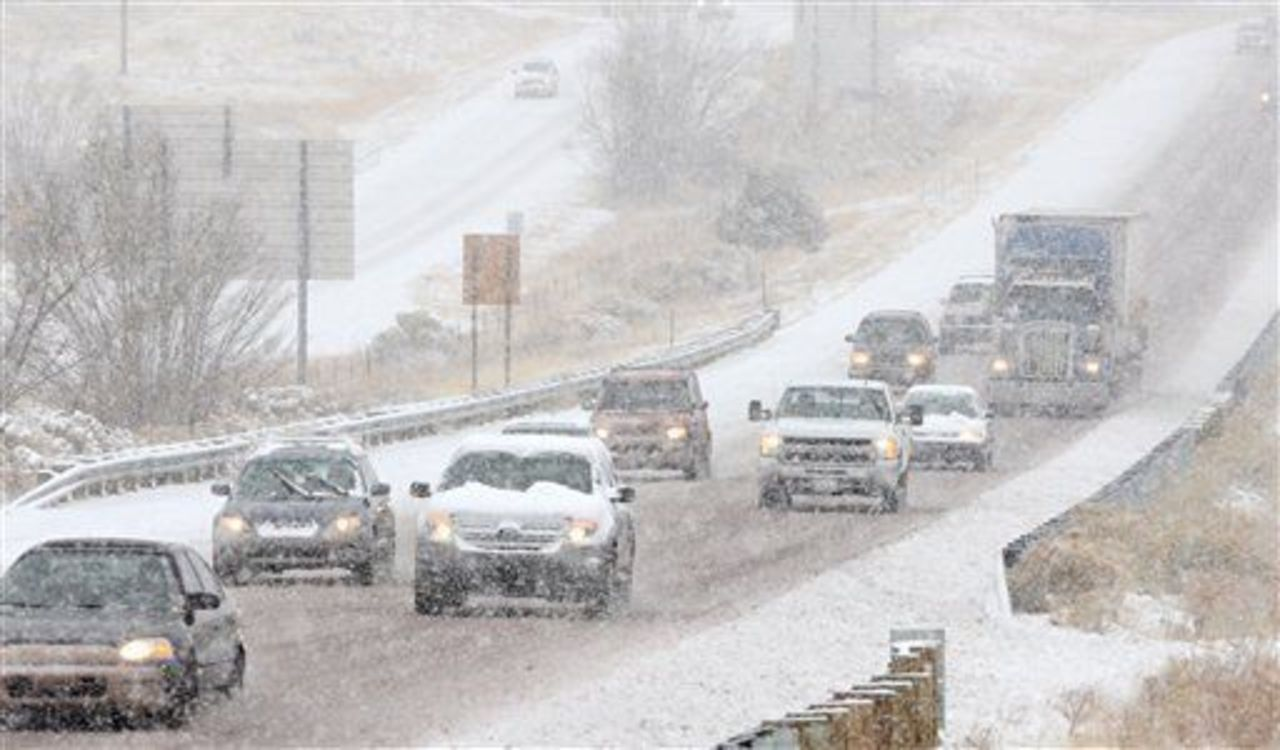car: (0, 537, 250, 729), (399, 425, 639, 623), (211, 436, 391, 587), (753, 381, 912, 516), (588, 371, 713, 481), (901, 384, 994, 471), (845, 307, 938, 390), (935, 271, 1000, 348)
truck: (989, 208, 1145, 420)
